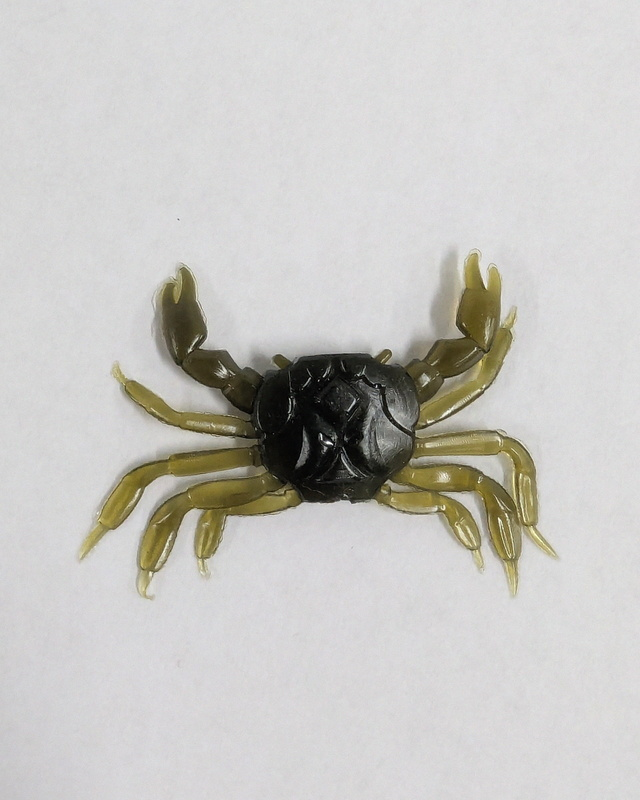crab2: (77, 249, 561, 596)
